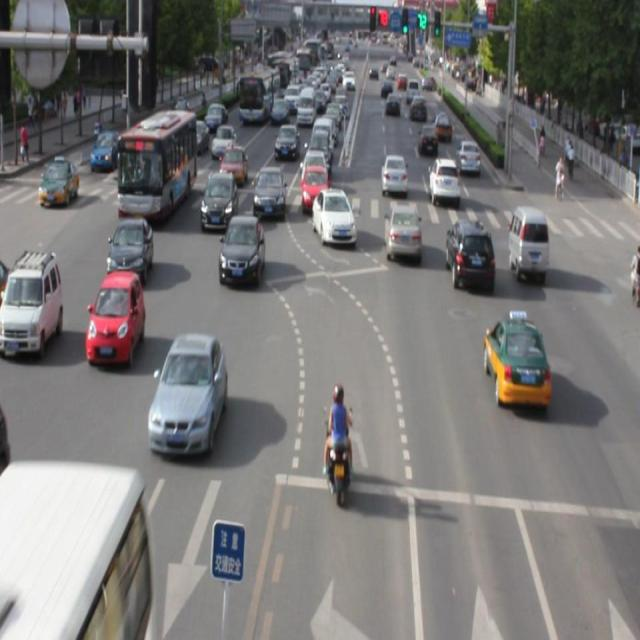car: (146, 332, 226, 456), (483, 316, 549, 409), (86, 270, 144, 364), (445, 217, 493, 290), (220, 213, 262, 284), (310, 188, 357, 246), (108, 218, 150, 282), (202, 168, 237, 230), (383, 204, 421, 258)
truck: (508, 204, 547, 278)
van: (1, 460, 155, 640), (118, 111, 195, 228)
